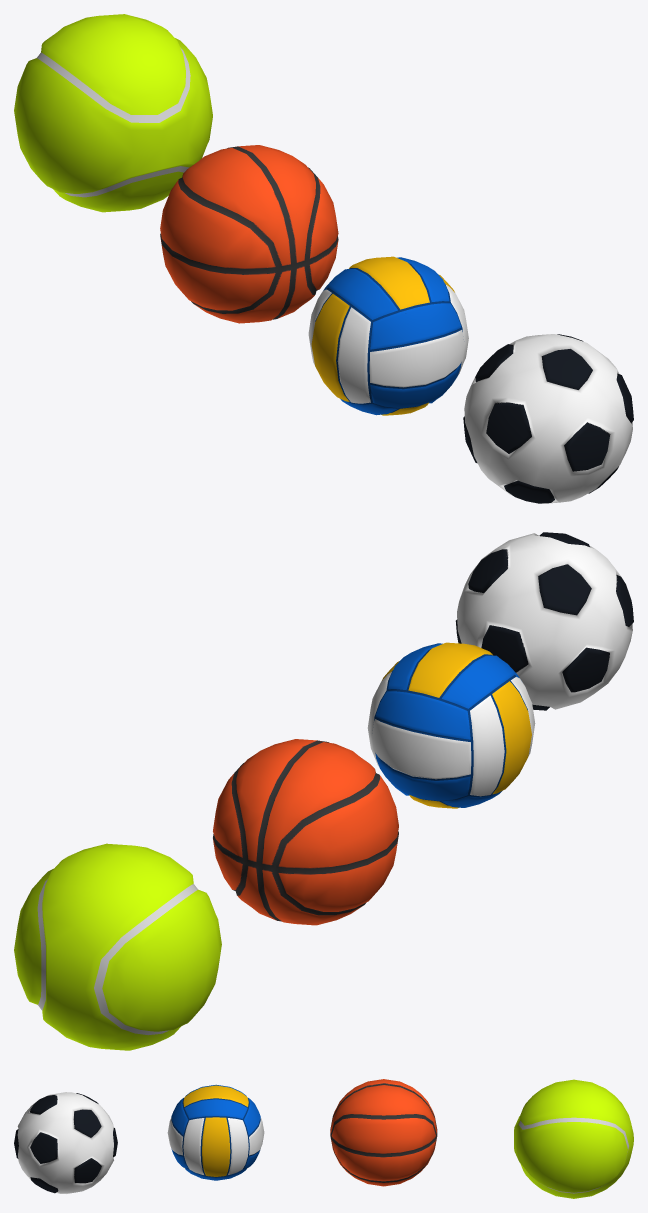
The model's file is balls.fbx.
3 renders of one model, top to bottom at view 1: azimuth 30°, elevation 25°; view 2: azimuth 150°, elevation 25°; view 3: azimuth 270°, elevation 25°, orthographic. The views are drawn at different scales.
Visible parts, largest first — view 1: Tennis, Basket, Soccer, Volleyball; view 2: Tennis, Basket, Soccer, Volleyball; view 3: Tennis, Basket, Soccer, Volleyball.
Boxes of the visible parts, x1=… form: Tennis: x1=14, y1=14, x2=212, y2=212; Basket: x1=160, y1=145, x2=338, y2=323; Soccer: x1=463, y1=334, x2=633, y2=503; Volleyball: x1=308, y1=256, x2=468, y2=415; Tennis: x1=14, y1=843, x2=221, y2=1050; Basket: x1=213, y1=739, x2=398, y2=925; Soccer: x1=455, y1=532, x2=633, y2=710; Volleyball: x1=367, y1=642, x2=535, y2=808; Tennis: x1=514, y1=1079, x2=633, y2=1198; Basket: x1=330, y1=1079, x2=437, y2=1186; Soccer: x1=14, y1=1092, x2=117, y2=1193; Volleyball: x1=167, y1=1084, x2=264, y2=1180.
Size of the model in its own units: 232 by 215 by 1109.
4 materials, 4 textured.
